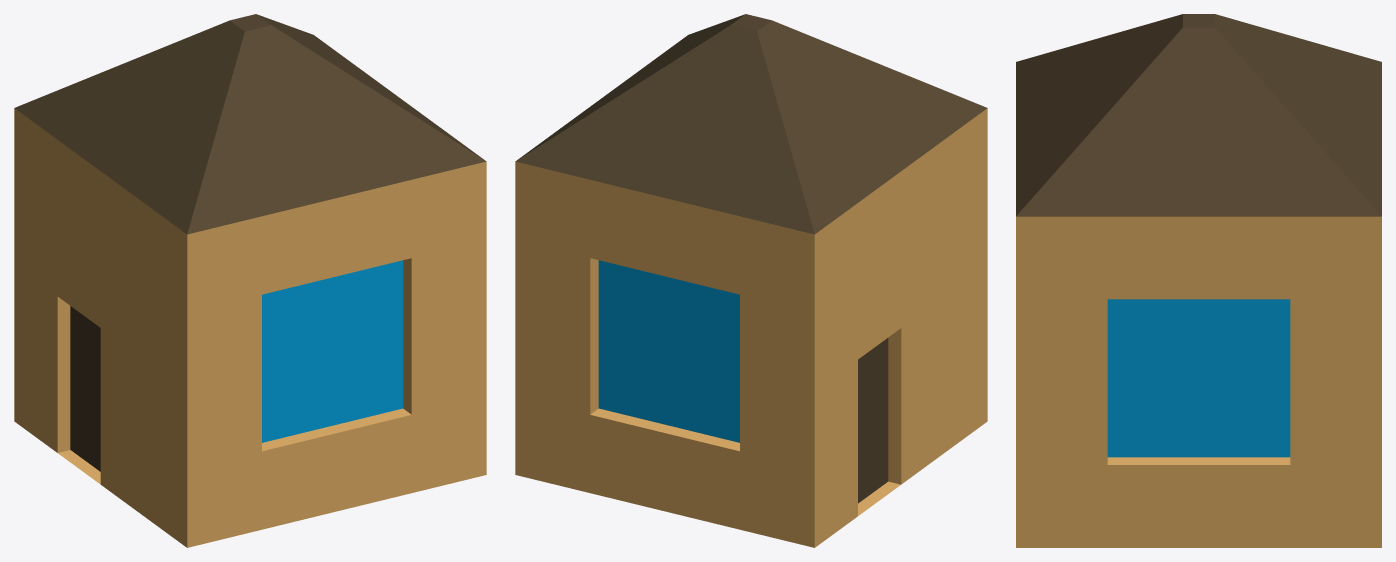
The model's file is Building_A.fbx.
3 views of the same model, side by side, from view 1: azimuth 30°, elevation 25°; view 2: azimuth 150°, elevation 25°; view 3: azimuth 270°, elevation 25° (orthographic). The views are drawn at different scales.
Parts seen in each view (by area): view 1: Plane; view 2: Plane; view 3: Plane.
Boxes of the visible parts, x1,y1,x2,y2 form: Plane: (14,14,486,547); Plane: (515,14,987,547); Plane: (1016,14,1381,547).
Size of the model in its own units: 100 by 136 by 100.
